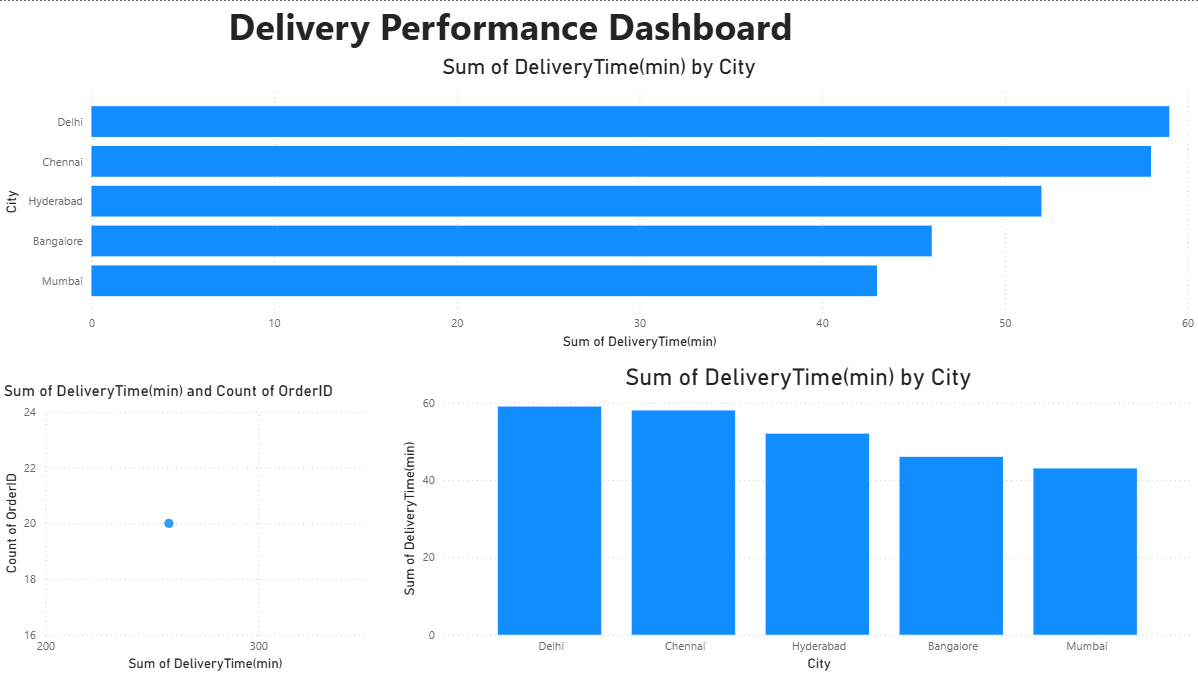

The page's visual inventory and layout, read from the dashboard file:
{"tool":"powerbi","page":{"name":"Delivery performance","canvas":[1280,720],"ordinal":2},"visuals":[{"type":"textbox","title":"Delivery Performance Dashboard","box":[10,0,1070,143],"z":0},{"type":"clusteredBarChart","fields":{"Category":["Sheet1.City"],"Y":["Sum(Sheet1.DeliveryTime(min))"]},"box":[0,56,1280,320],"z":1000},{"type":"scatterChart","fields":{"X":["Sum(Sheet1.DeliveryTime(min))"],"Y":["CountNonNull(Sheet1.OrderID)"]},"box":[0,405.3,405.3,314.7],"z":2000},{"type":"columnChart","fields":{"Category":["Sheet1.City"],"Y":["Sum(Sheet1.DeliveryTime(min))"]},"box":[425.3,386.7,854.7,333.3],"z":3000}]}

Visuals, with their boxes in screenshot pixels (x1, y1, x2, y2), scaled from the page's 1280x720 canvas onto the 1198x674 screenshot:
"Delivery Performance Dashboard" textbox: [x1=9, y1=0, x2=1011, y2=134]
clusteredBarChart - Sheet1.City x Sum(Sheet1.DeliveryTime(min)): [x1=0, y1=52, x2=1197, y2=352]
scatterChart - Sum(Sheet1.DeliveryTime(min)) x CountNonNull(Sheet1.OrderID): [x1=0, y1=379, x2=379, y2=673]
columnChart - Sheet1.City x Sum(Sheet1.DeliveryTime(min)): [x1=398, y1=362, x2=1197, y2=673]
